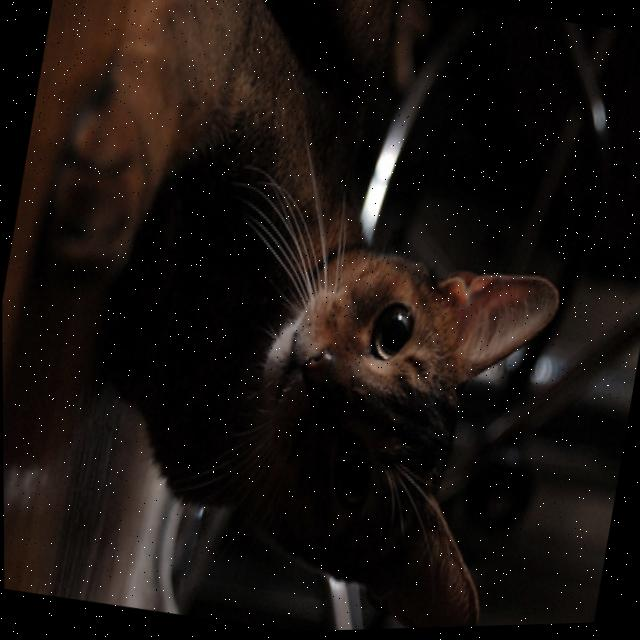Abyssinian: (0, 0, 619, 640)
